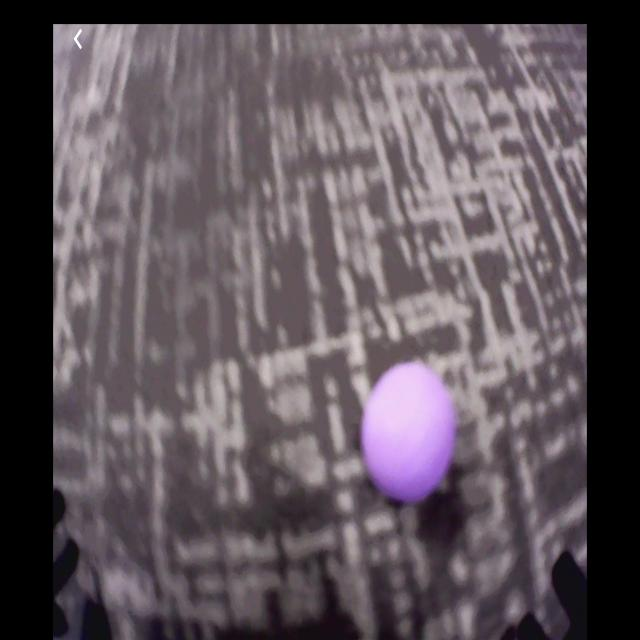ball: (362, 360, 456, 500)
